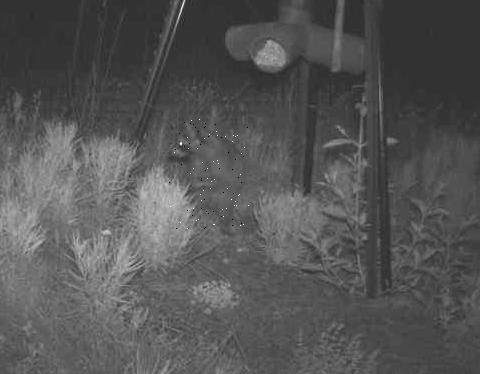Raccoon: (169, 117, 249, 230)
